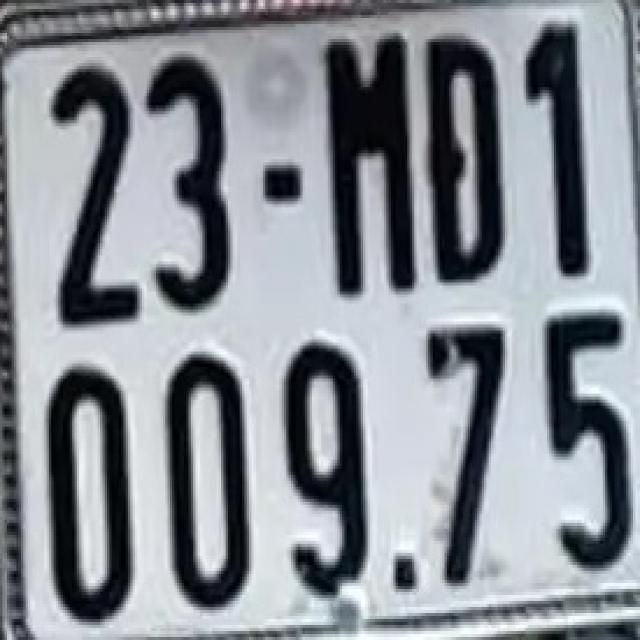0: (163, 348, 254, 610), (46, 364, 136, 628)
1: (521, 20, 598, 276)
2: (46, 57, 142, 328)
3: (144, 51, 238, 313)
5: (540, 306, 636, 571)
7: (422, 318, 509, 589)
9: (277, 333, 375, 598)
D: (423, 32, 508, 286)
M: (313, 24, 425, 304)
